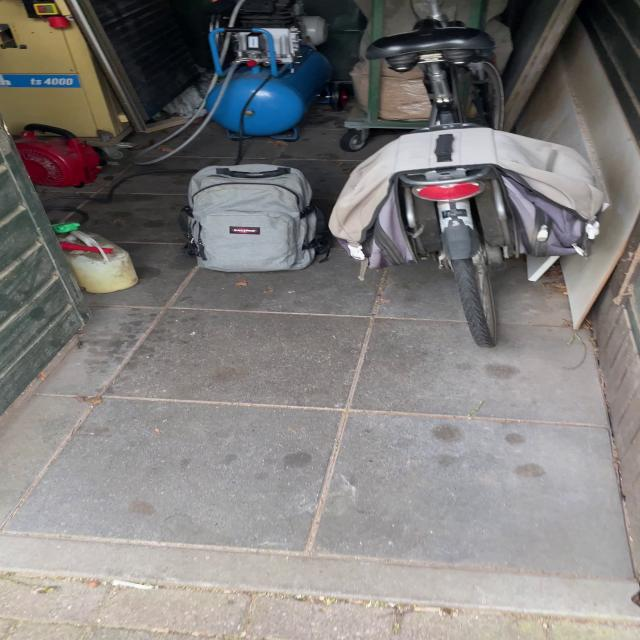backpack: (172, 160, 340, 276)
